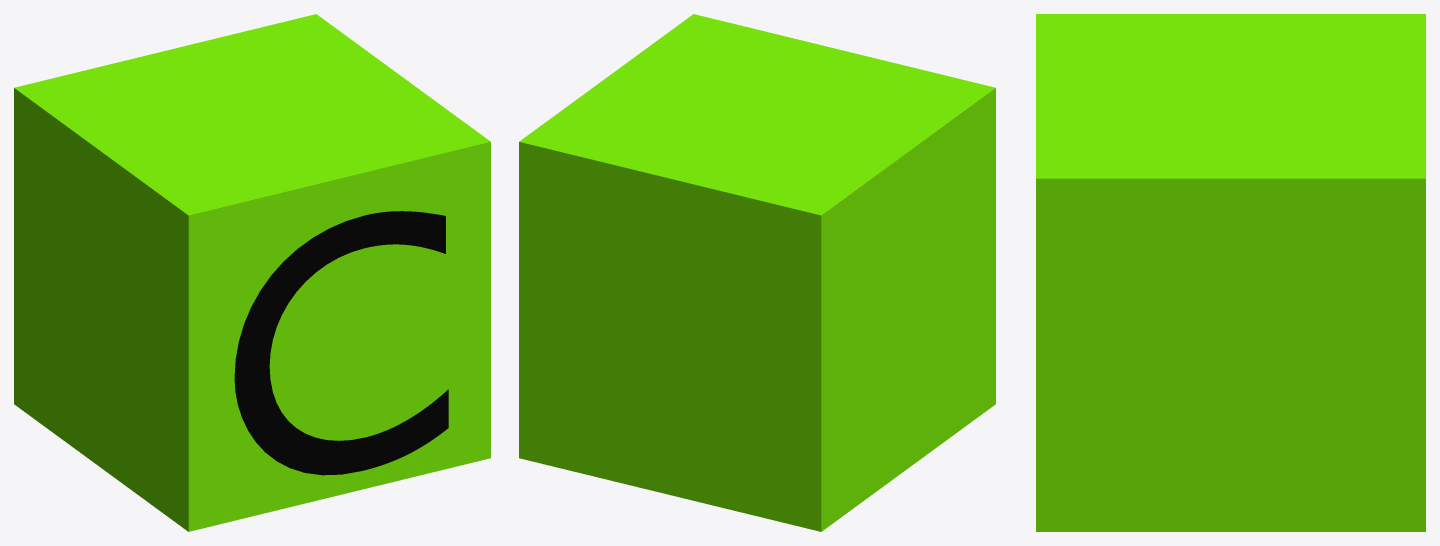
File: Tegel3.gltf
The picture shows the model from 3 angles, left to right: view 1: azimuth 30°, elevation 25°; view 2: azimuth 150°, elevation 25°; view 3: azimuth 270°, elevation 25°; orthographic projection. The views are drawn at different scales.
Parts seen in each view (by area): view 1: Cube.010, Text.010; view 2: Cube.010; view 3: Cube.010.
Boxes of the visible parts, x1=… form: Cube.010: x1=14, y1=14, x2=490, y2=531; Text.010: x1=234, y1=211, x2=448, y2=475; Cube.010: x1=519, y1=14, x2=995, y2=531; Cube.010: x1=1036, y1=14, x2=1425, y2=531.
Bounding box in the file's own units: 0.2 × 0.2 × 0.2061.
